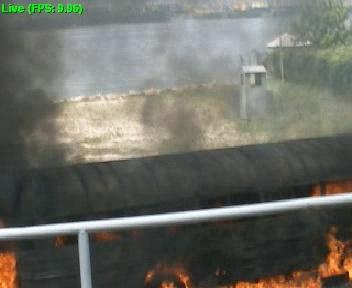fire: (324, 233, 350, 283), (0, 252, 16, 288)
smoke: (6, 81, 54, 182)
